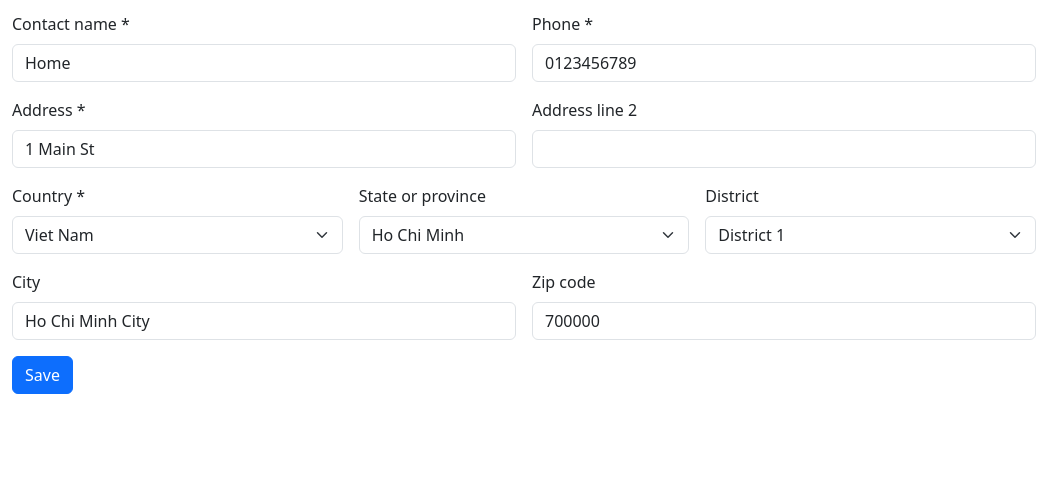
Scenario: AddressForm › shows the server message when saving fails
Click the button "Save".
click(42, 375)  # box 12,356 -> 73,394
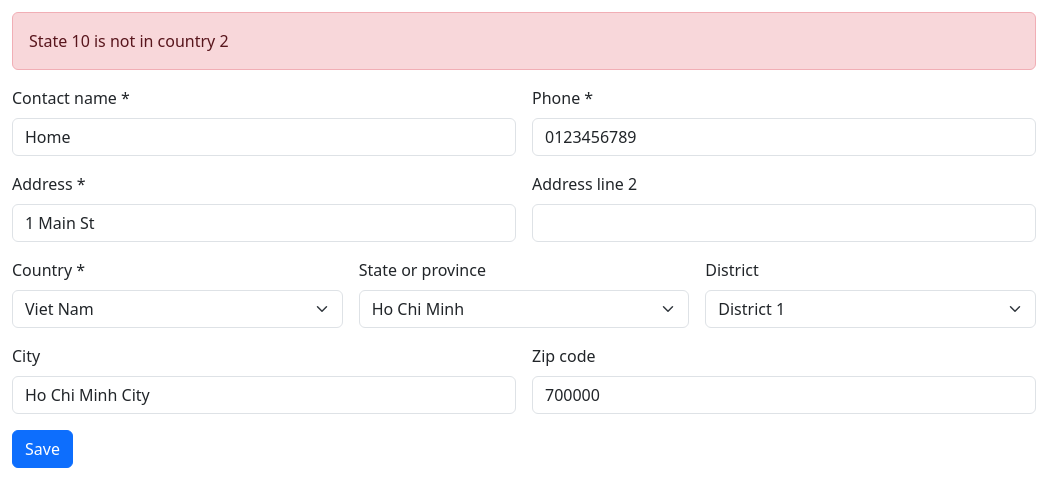
Expected: the text "State 10 is not in country 2" is shown, 12,12 -> 1036,70
